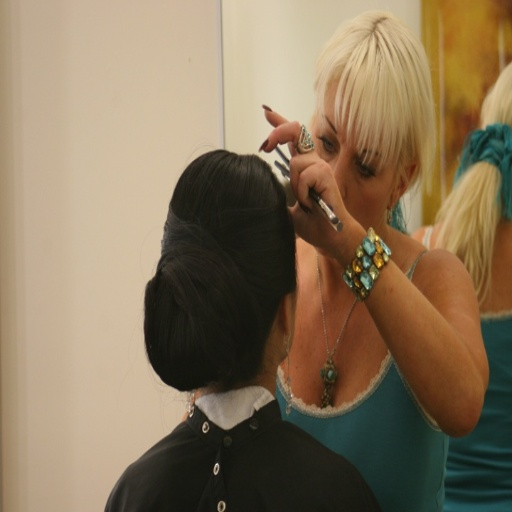hand: (263, 115, 347, 214)
